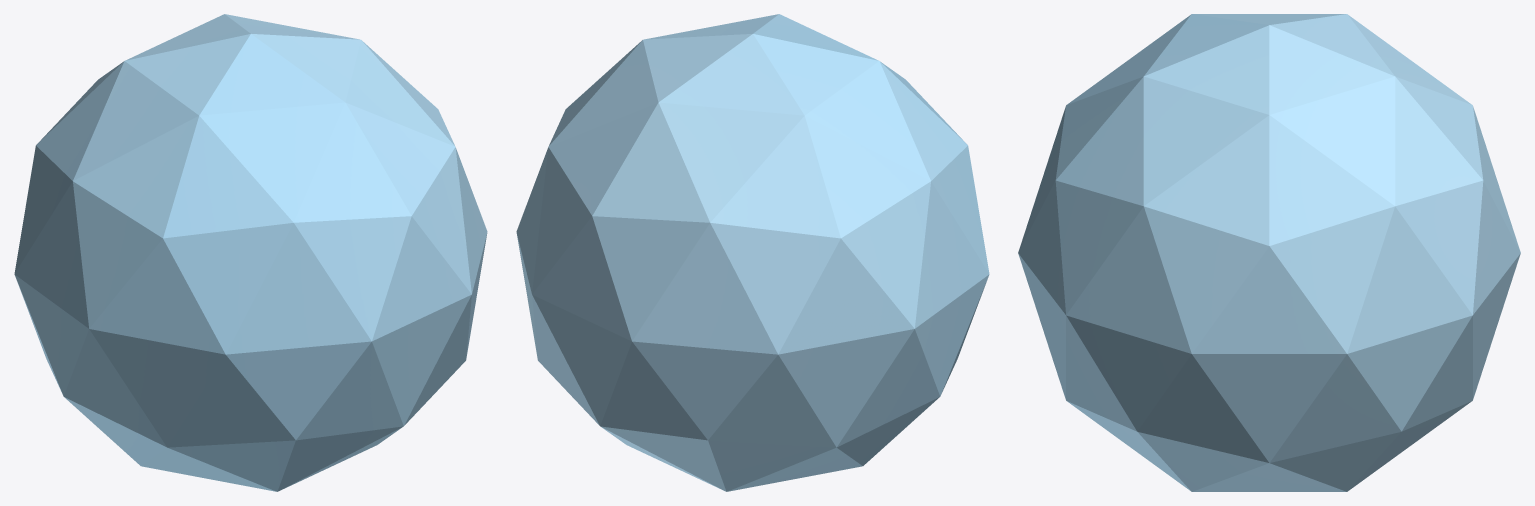
File: particle.obj
The picture shows the model from 3 angles, left to right: view 1: azimuth 30°, elevation 25°; view 2: azimuth 150°, elevation 25°; view 3: azimuth 270°, elevation 25°; orthographic projection. The views are drawn at different scales.
Parts seen in each view (by area): view 1: ICO球; view 2: ICO球; view 3: ICO球.
Boxes of the visible parts, x1=… form: ICO球: x1=14, y1=14, x2=487, y2=491; ICO球: x1=516, y1=14, x2=989, y2=491; ICO球: x1=1018, y1=14, x2=1520, y2=491.
Bounding box in the file's own units: 1.72 × 1.81 × 1.81.
1 material, 1 textured.
